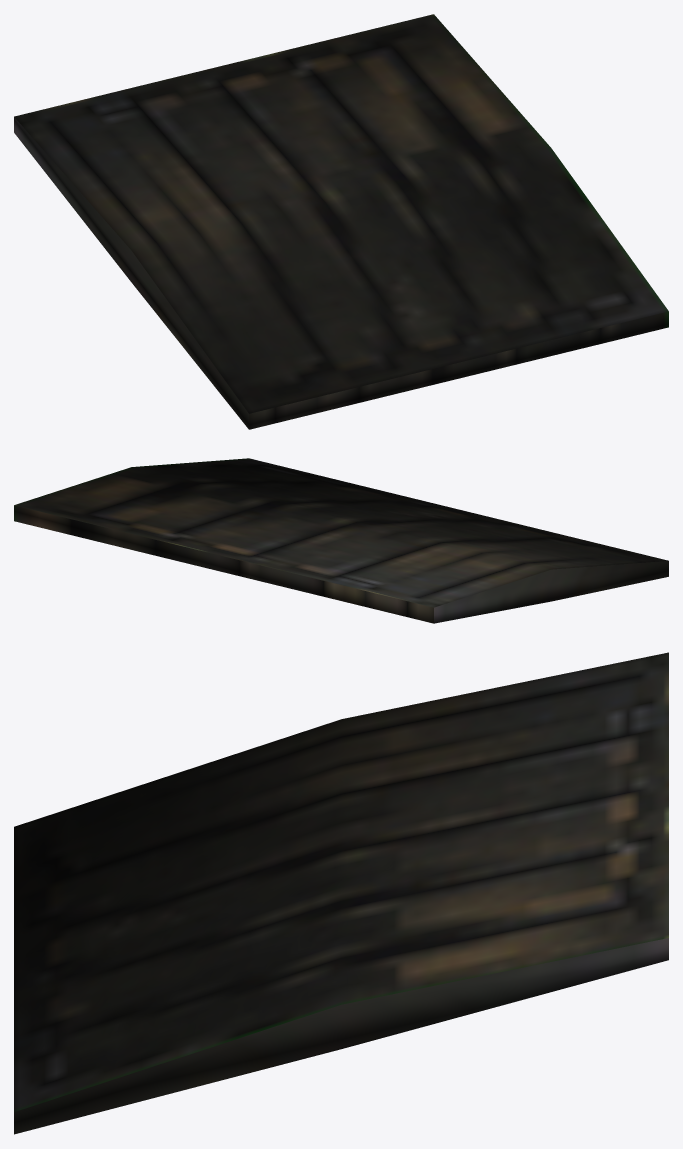
Rendered from dumpsterlid1.glb.
3 renders of one model, top to bottom at view 1: azimuth 30°, elevation 25°; view 2: azimuth 150°, elevation 25°; view 3: azimuth 270°, elevation 25°, orthographic. The views are drawn at different scales.
Visible parts, largest first — view 1: DumpsterLid1; view 2: DumpsterLid1; view 3: DumpsterLid1.
Boxes of the visible parts, x1,y1,x2,y2 form: DumpsterLid1: (14,14,668,429); DumpsterLid1: (14,458,668,623); DumpsterLid1: (14,652,668,1134).
Bounding box in the file's own units: 0.825 × 0.265 × 0.8.
1 material, 1 textured.
